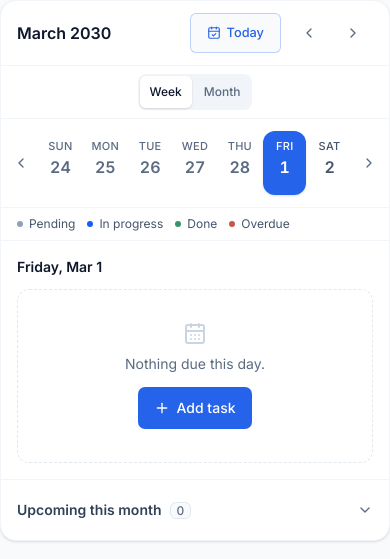
CalendarView › follows the week strip into the neighbouring month
The image size is (390, 559).
# Fri Mar 1 minus one week is Fri Feb 22
Click the button named "Previous week" at (21, 163), box [5, 131, 37, 195]
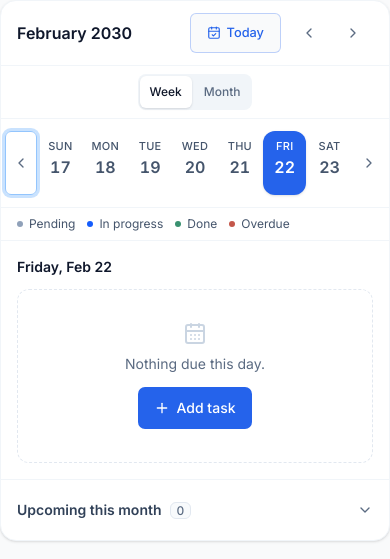
Check: the heading "February 2030" is shown, box [17, 21, 132, 45]
